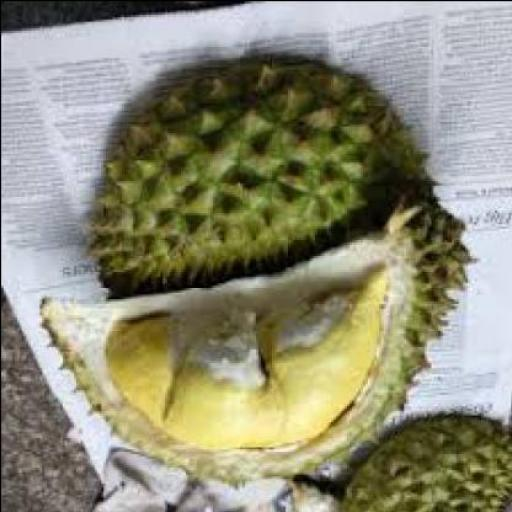biodegradable: (39, 198, 478, 492), (87, 62, 439, 302), (257, 271, 394, 455), (166, 312, 294, 455), (338, 418, 511, 511), (107, 312, 185, 428), (290, 485, 340, 511)
paper: (2, 22, 96, 303), (139, 1, 511, 69), (470, 68, 511, 430), (432, 62, 474, 204), (94, 16, 136, 134), (417, 62, 436, 148), (387, 62, 419, 107), (359, 62, 389, 81)
